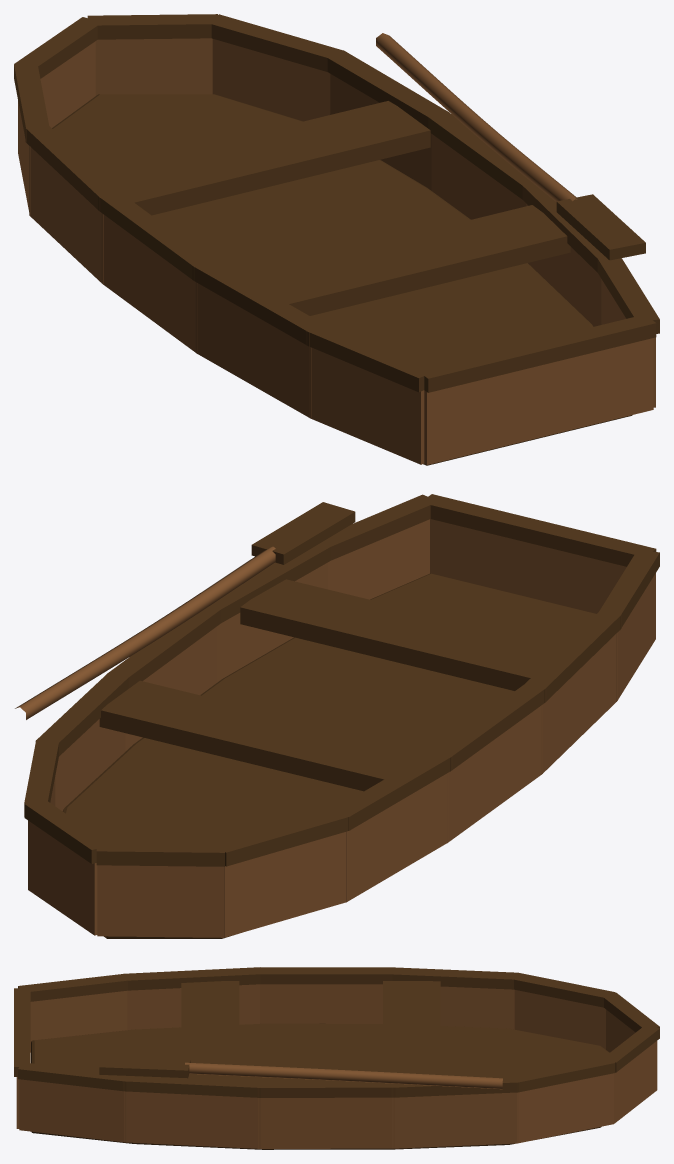
Rendered from mia-rowboat.glb.
3 views of the same model, one above another, from view 1: azimuth 30°, elevation 25°; view 2: azimuth 150°, elevation 25°; view 3: azimuth 270°, elevation 25° (orthographic). The views are drawn at different scales.
Parts seen in each view (by area): view 1: Body_wood, Body_oak; view 2: Body_wood, Body_oak; view 3: Body_oak, Body_wood.
Boxes of the visible parts, bbox=[...] form: Body_wood: bbox=[14, 14, 659, 465]; Body_oak: bbox=[18, 33, 655, 464]; Body_wood: bbox=[24, 494, 659, 938]; Body_oak: bbox=[15, 519, 655, 937]; Body_oak: bbox=[16, 984, 657, 1148]; Body_wood: bbox=[14, 967, 659, 1149].
Size of the model in its own units: 1.44 by 0.472 by 3.1.
